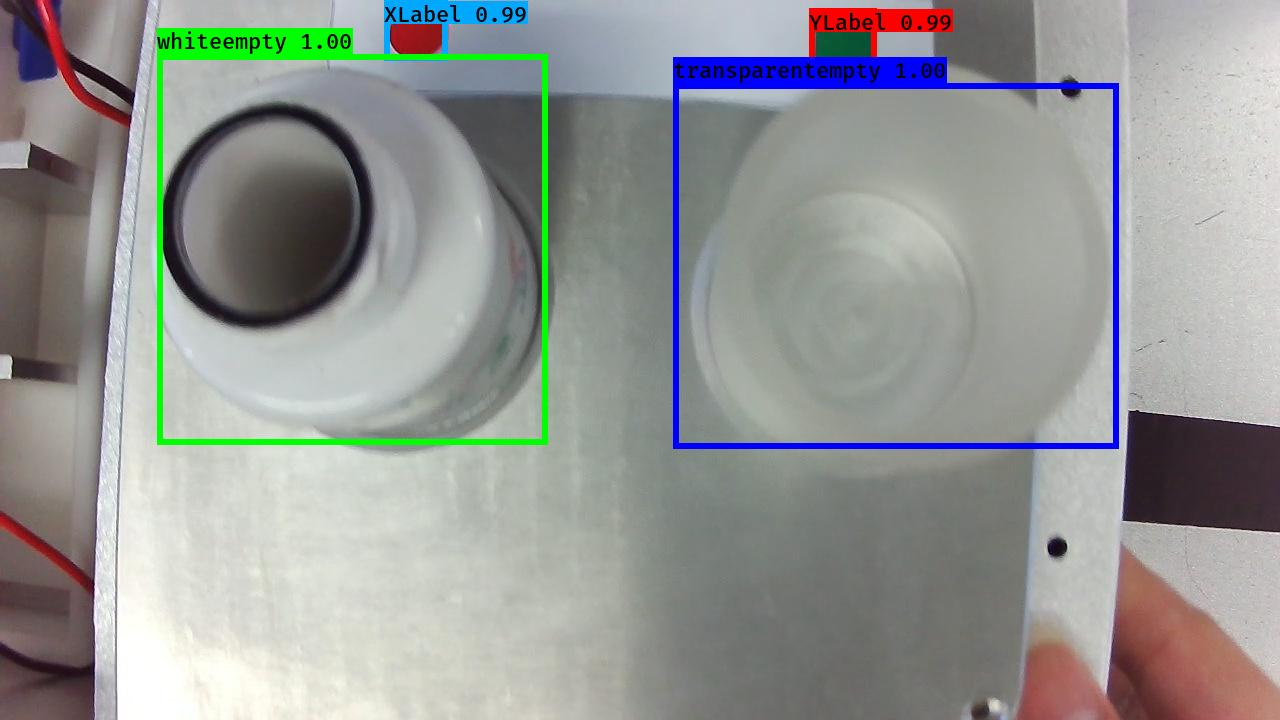XLabel: (385, 1, 450, 62)
YLabel: (809, 14, 880, 87)
transparentempty: (684, 59, 1119, 487)
whiteempty: (141, 67, 559, 465)
